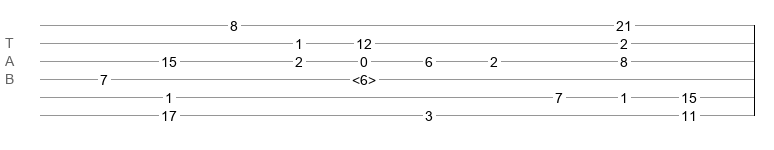0: (360, 54, 368, 64)
1: (165, 90, 173, 100), (295, 36, 303, 46), (620, 90, 628, 100)
11: (681, 108, 697, 118)
12: (356, 36, 372, 46)
15: (161, 54, 177, 64), (681, 90, 697, 100)
17: (161, 108, 177, 118)
2: (295, 54, 303, 64), (490, 54, 498, 64), (620, 36, 628, 46)
21: (616, 18, 632, 28)
3: (425, 108, 433, 118)
6: (425, 54, 433, 64)
7: (100, 72, 108, 82), (555, 90, 563, 100)
8: (230, 18, 238, 28), (620, 54, 628, 64)
harmonic: (352, 72, 376, 82)
